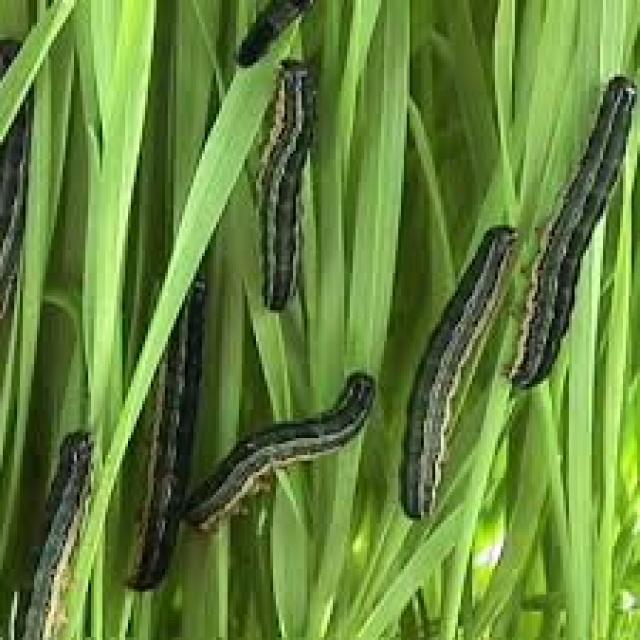Army Worm: (511, 69, 637, 397), (397, 213, 522, 521), (178, 358, 383, 540), (111, 268, 215, 593), (3, 418, 104, 640), (253, 63, 327, 318), (0, 31, 31, 329), (227, 0, 331, 60)
